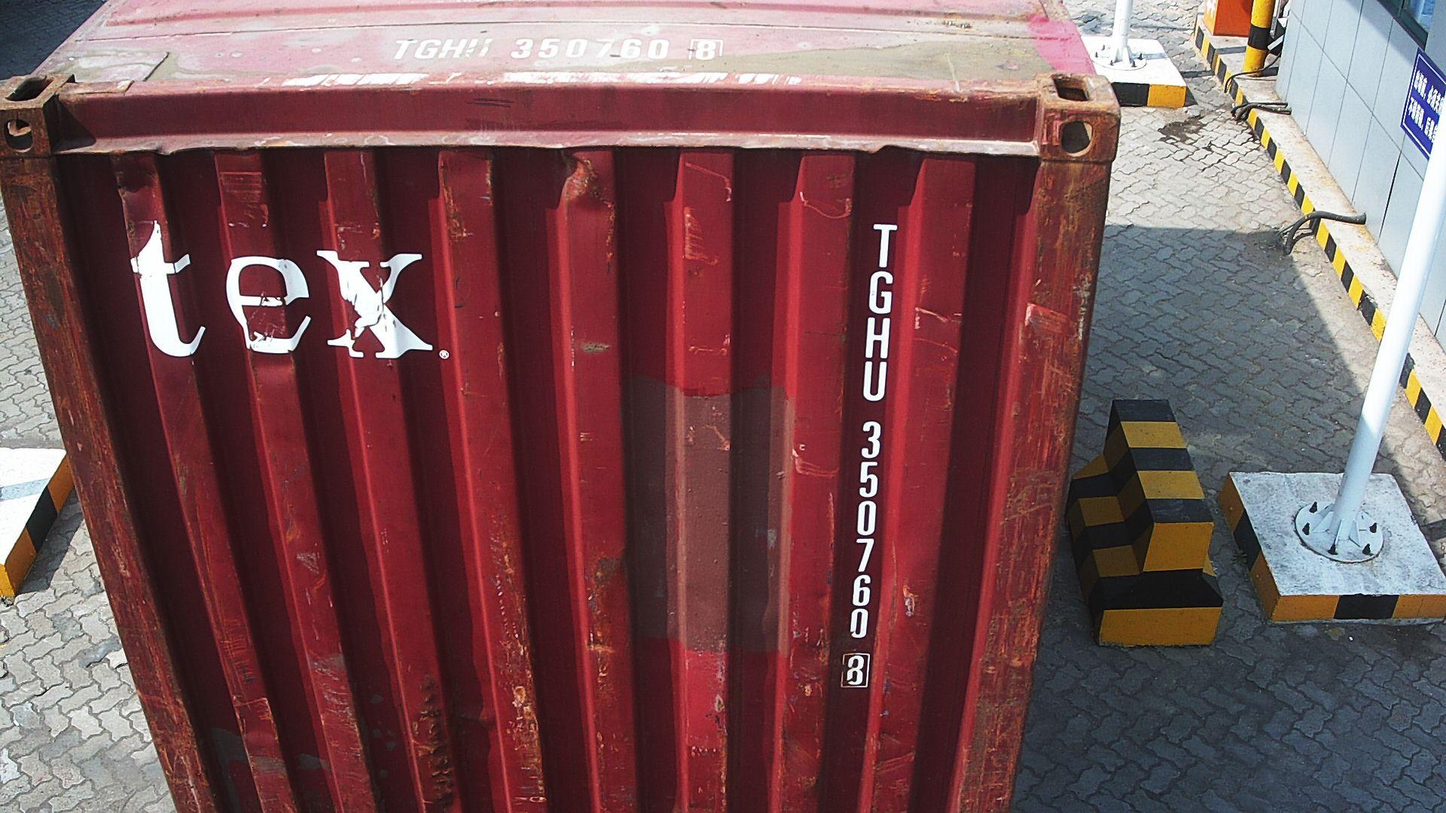container-numbers: (832, 217, 901, 690), (380, 33, 728, 68)
